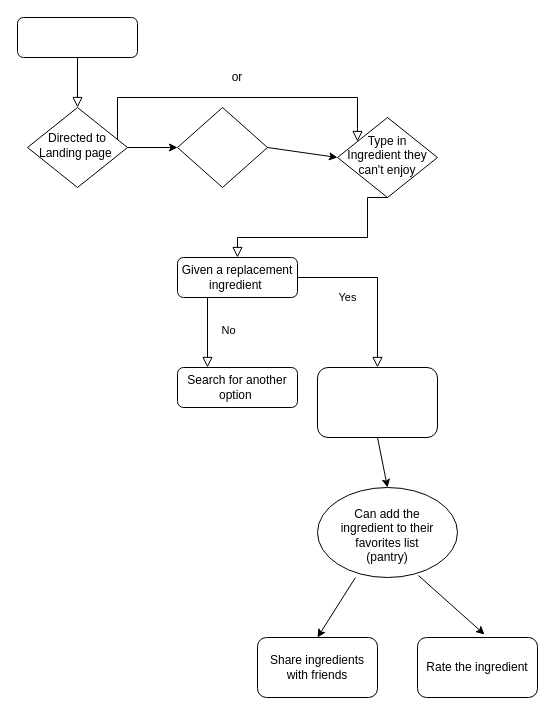
This 555x715 diagram has some shape labels left out. The shapes that lost their labels are listed below. From the top down, each one's centre as x and y in pixels, then its label:
(x=77, y=37): User plugs in Route for site
(x=222, y=147): User logs in
(x=377, y=402): Keep the recommended ingredient on the page
